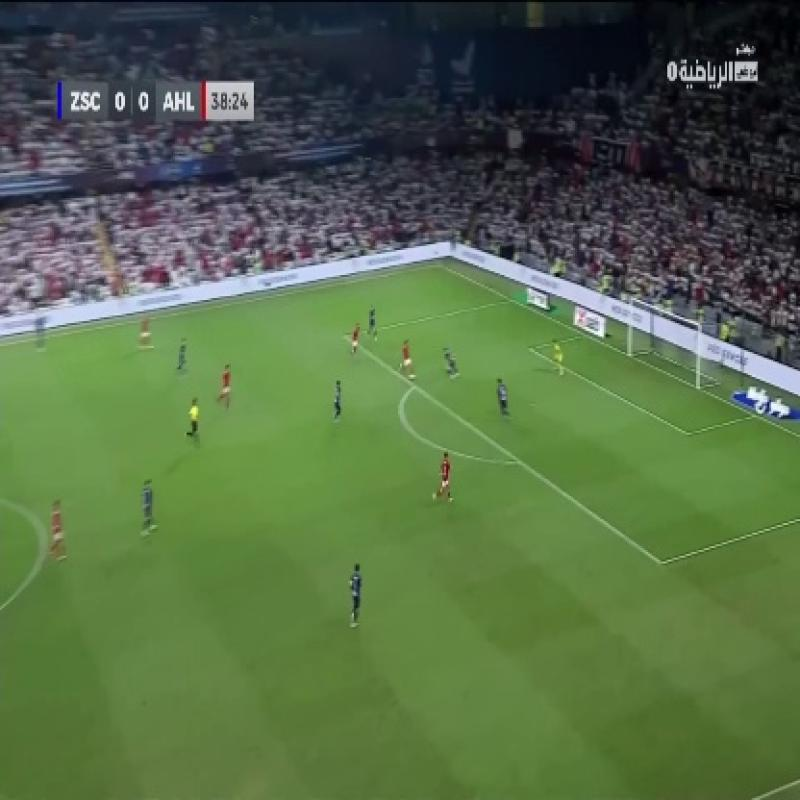10: (404, 373, 422, 394)
11: (510, 450, 528, 471)
12: (650, 548, 671, 575)
2: (501, 290, 518, 306)
3: (574, 324, 592, 342)
4: (748, 406, 764, 423)
7: (523, 338, 537, 354)
8: (677, 419, 696, 442)
9: (336, 325, 354, 344)
c: (31, 522, 60, 556)
